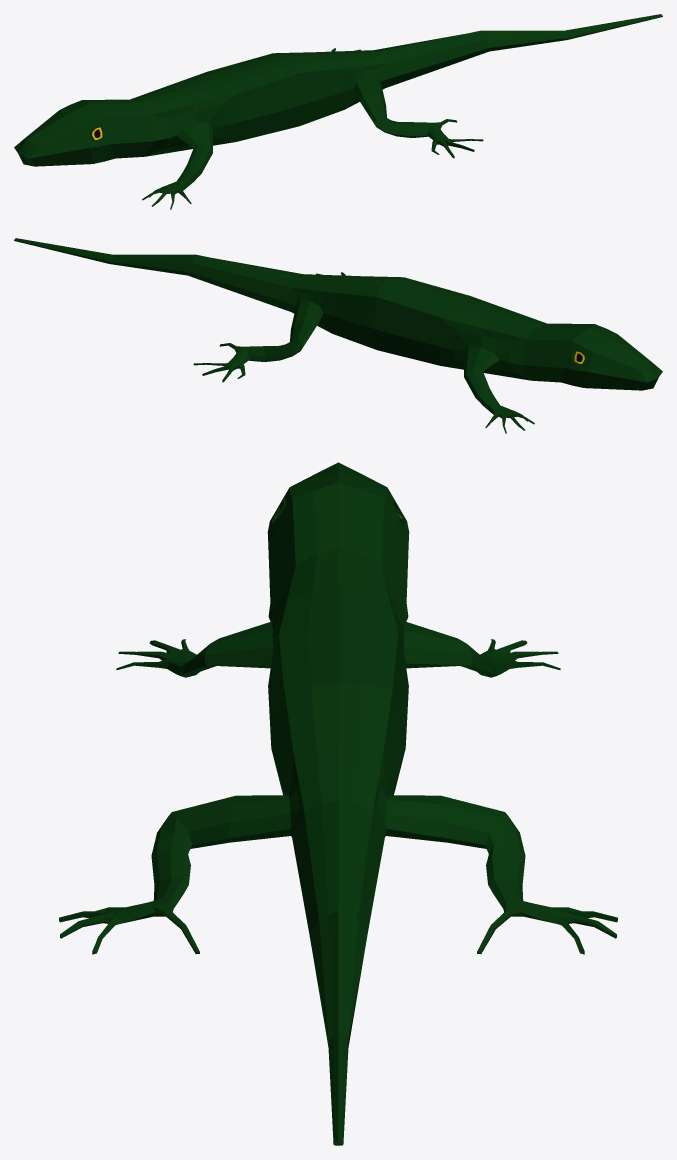
File: yach.fbx
The picture shows the model from 3 angles, top to bottom: view 1: azimuth 30°, elevation 25°; view 2: azimuth 150°, elevation 25°; view 3: azimuth 270°, elevation 25°; orthographic projection. The views are drawn at different scales.
Visible parts, largest first — view 1: Cube; view 2: Cube; view 3: Cube.
Boxes of the visible parts, bbox=[...] form: Cube: bbox=[14, 14, 662, 209]; Cube: bbox=[14, 238, 662, 433]; Cube: bbox=[59, 462, 617, 1145].
Size of the model in its own units: 804 by 90.95 by 303.
